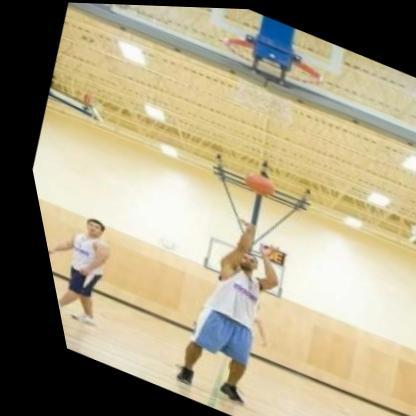basketball: (227, 161, 273, 201)
